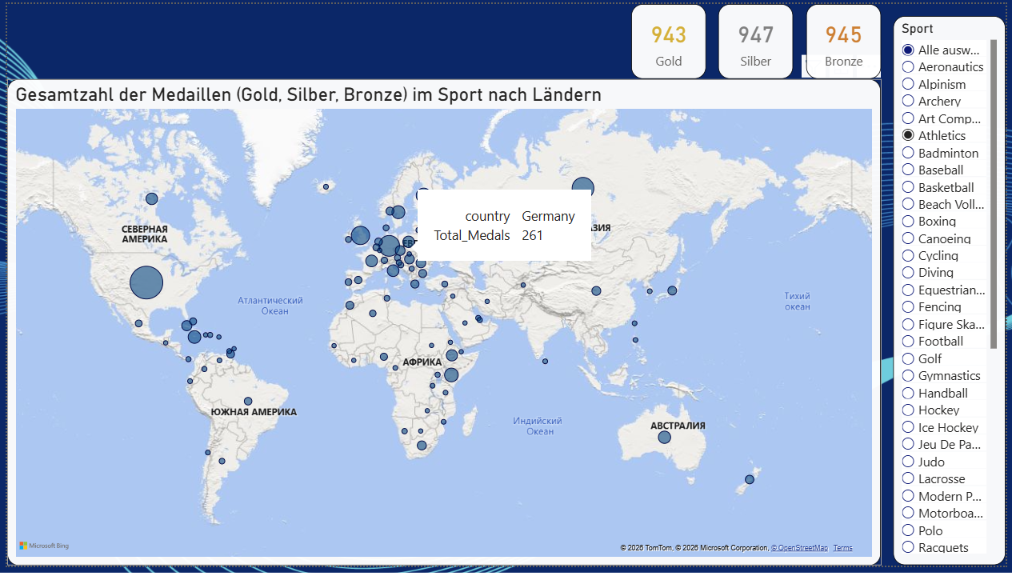

This screenshot's page, from the dashboard's own definition file:
{"tool":"powerbi","page":{"name":"Gesamtzahl der Medaillen_Welt","canvas":[1280,720],"ordinal":1},"visuals":[{"type":"map","title":"Gesamtzahl der Medaillen (Gold, Silber, Bronze) im Sport nach Ländern","fields":{"Category":["public dim_country.country"],"Size":["kontrol.Total_Medals"]},"box":[0,96,1120,624],"z":0},{"type":"listSlicer","title":"Sport","fields":{"Values":["public dim_sport.sport"]},"box":[1136,16,144,704],"z":1000},{"type":"card","fields":{"Values":["public fact_results.Gold"]},"box":[800,0,96,96],"z":2000},{"type":"card","fields":{"Values":["public fact_results.Bronze"]},"box":[1024,0,96,96],"z":3000},{"type":"card","fields":{"Values":["public fact_results.Silber"]},"box":[912,0,96,96],"z":4000}]}

Visuals, with their boxes in screenshot pixels (x1, y1, x2, y2), scaled from the page's 1280x720 canvas onto the 1012x573 screenshot:
"Gesamtzahl der Medaillen (Gold, Silber, Bronze) im Sport nach Ländern" map: 0/76/886/572
"Sport" listSlicer: 898/13/1011/572
card - public fact_results.Gold: 632/0/708/76
card - public fact_results.Bronze: 810/0/886/76
card - public fact_results.Silber: 721/0/797/76
